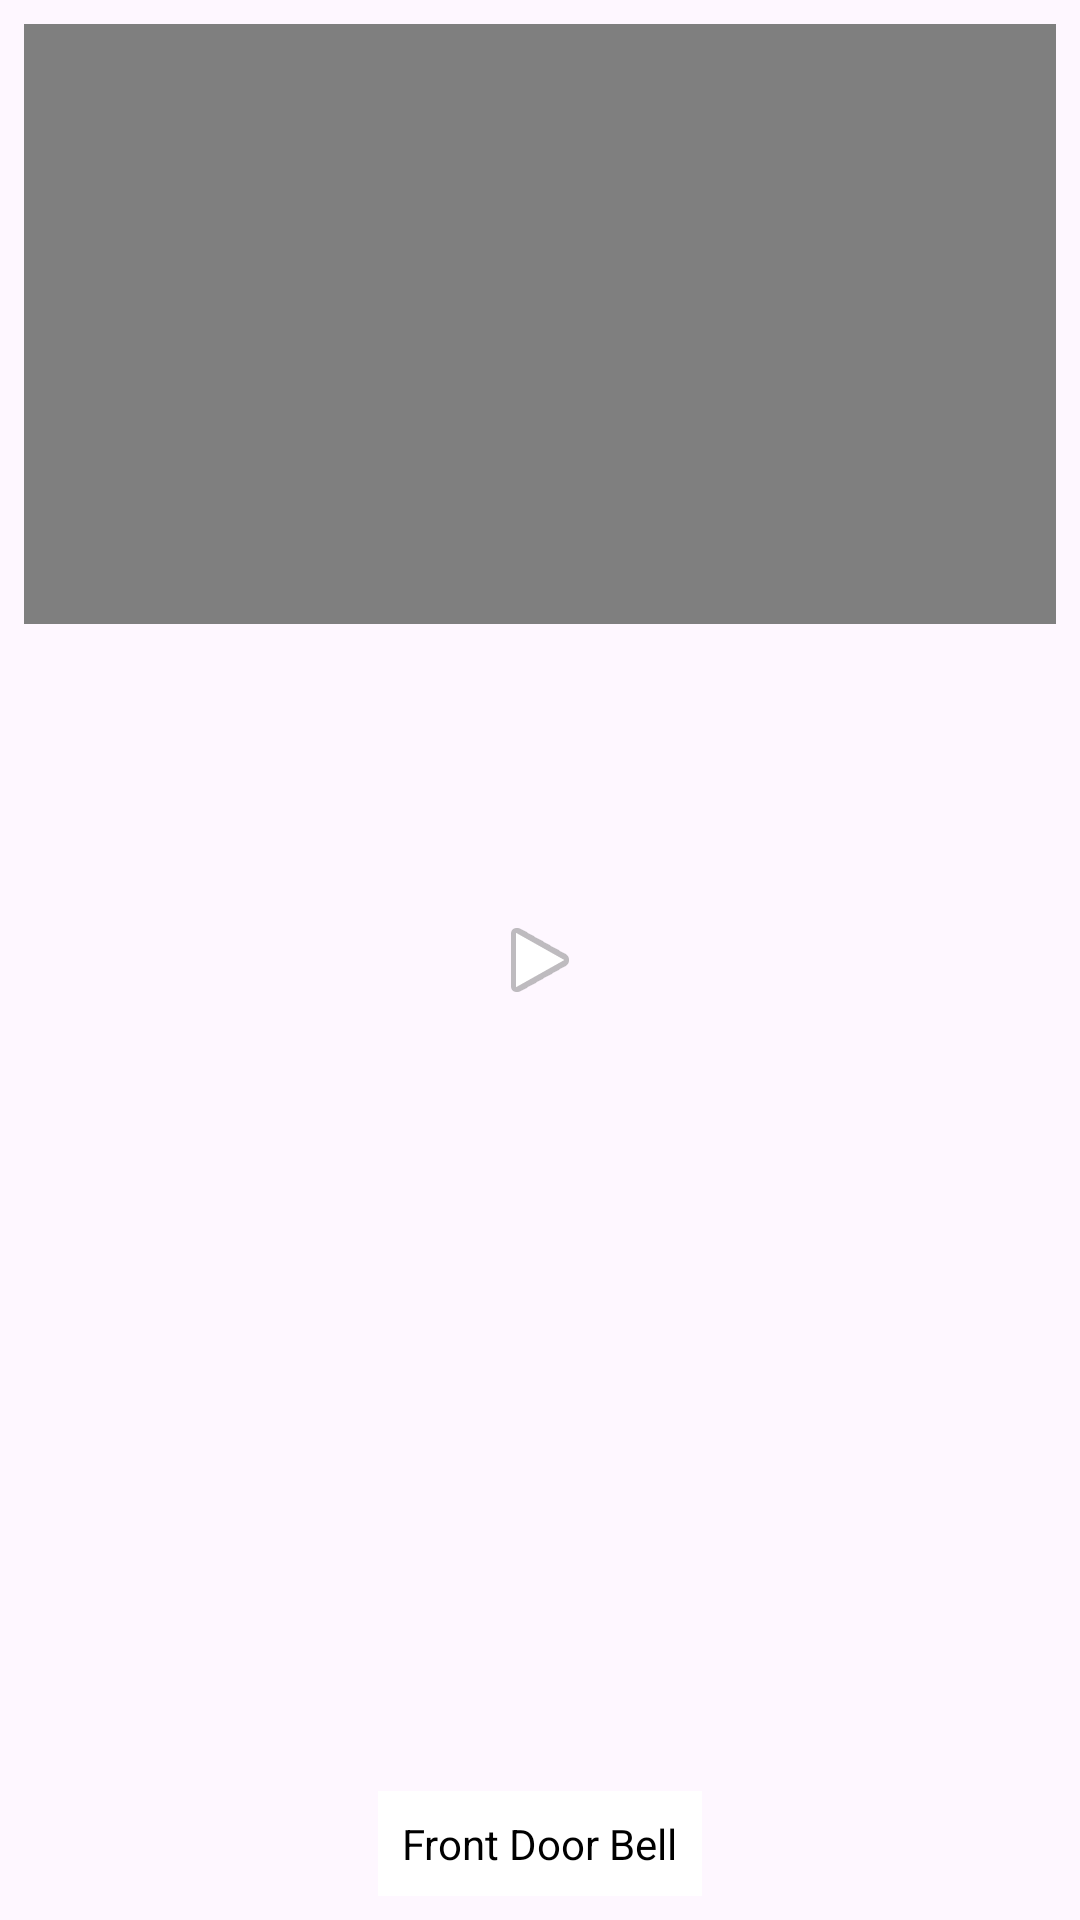

Named icons in this screenshot (1080 x 1920) and their bounding boxes, (x1, y1, x2, y2):
play: (511, 928, 569, 992)
